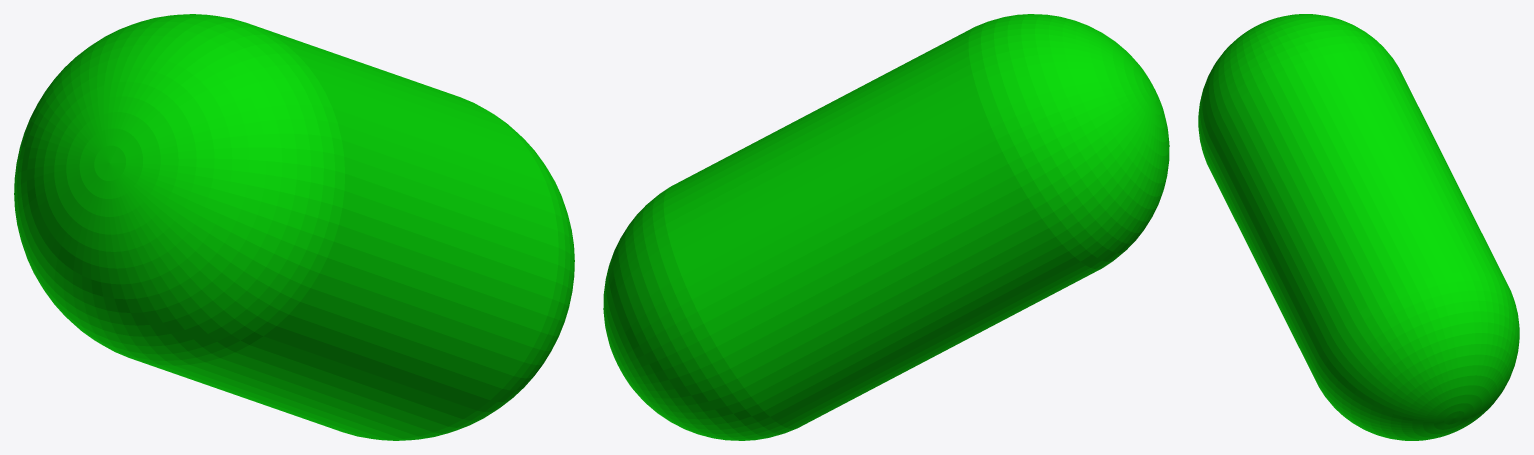
The picture shows the model from 3 angles, left to right: view 1: azimuth 30°, elevation 25°; view 2: azimuth 150°, elevation 25°; view 3: azimuth 270°, elevation 25°; orthographic projection. The views are drawn at different scales.
Visible parts, largest first — view 1: capsule; view 2: capsule; view 3: capsule.
Part boxes in pixels (x1,y1,x2,y2): capsule: (14,14,574,440); capsule: (603,14,1169,440); capsule: (1198,14,1519,440).
Bounding box in the file's own units: 0.7805 × 0.6569 × 0.597.
